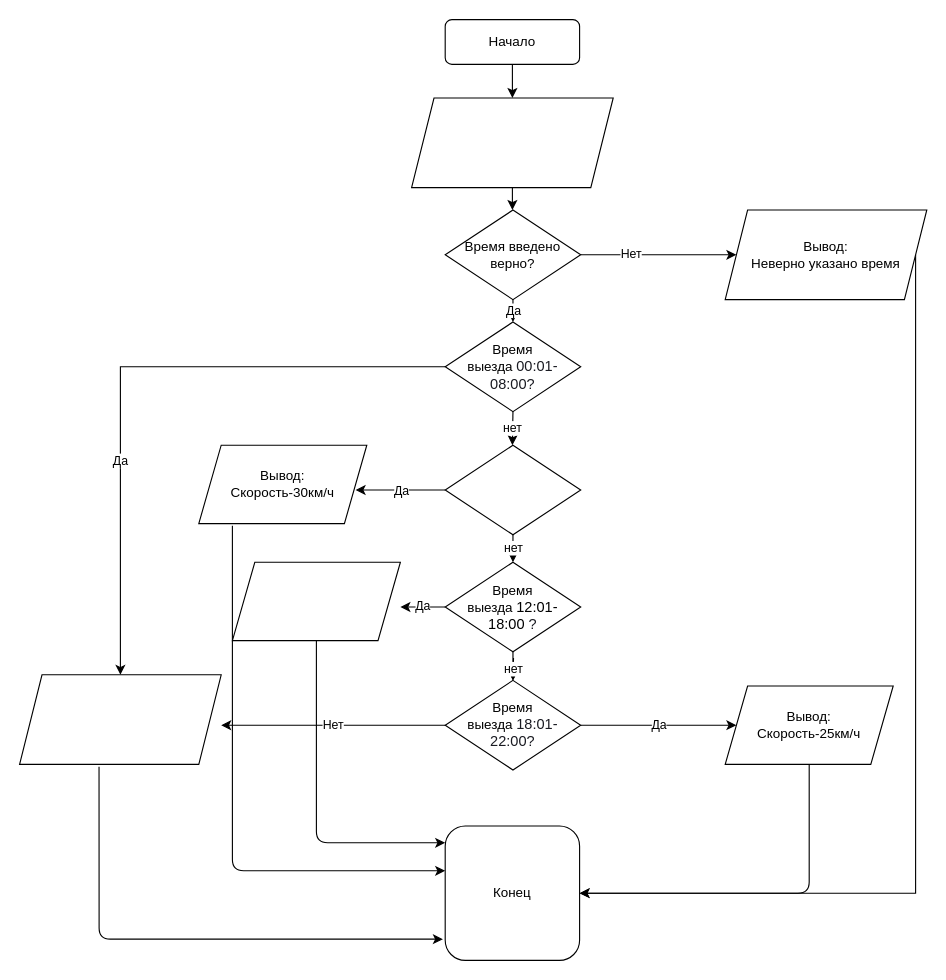
This 946x980 diagram has some shape labels left out. The centre of each missing label's shape, as x and y in pixels:
Ввод времени начала движения: [511,142]
Время выезда 08:01-12:0 0?: [512,489]
Вывод: Скорость-40км/ч: [315,601]
Вывод: Скорость-45км/ч: [119,719]
